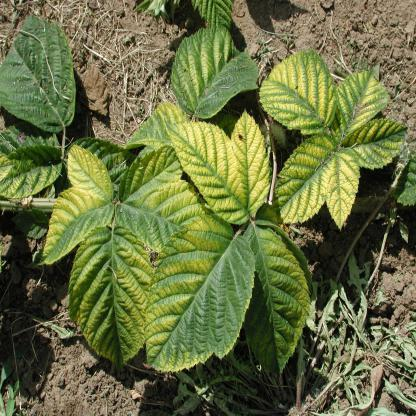Raspberry leaf: (145, 215, 256, 379), (234, 220, 314, 381), (67, 229, 156, 370), (168, 114, 271, 226), (42, 136, 119, 270), (268, 136, 360, 231), (259, 52, 338, 136), (338, 63, 392, 133)
